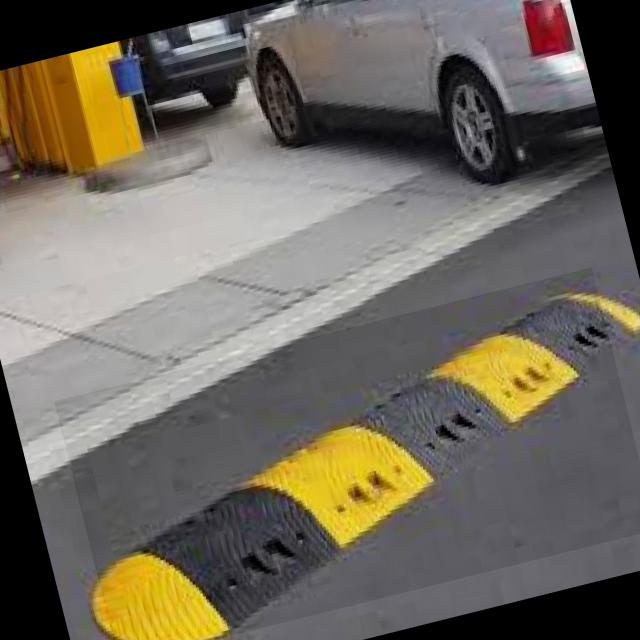bump: (53, 267, 640, 640)
